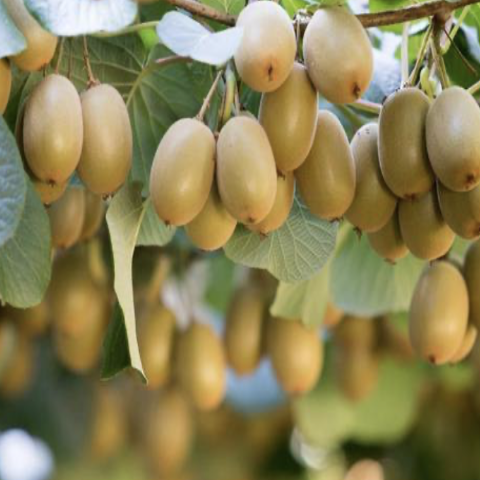kiwi: (372, 75, 450, 222), (148, 89, 223, 239), (65, 72, 142, 200), (302, 0, 380, 115), (203, 104, 278, 222), (406, 250, 474, 371), (22, 66, 83, 196)
